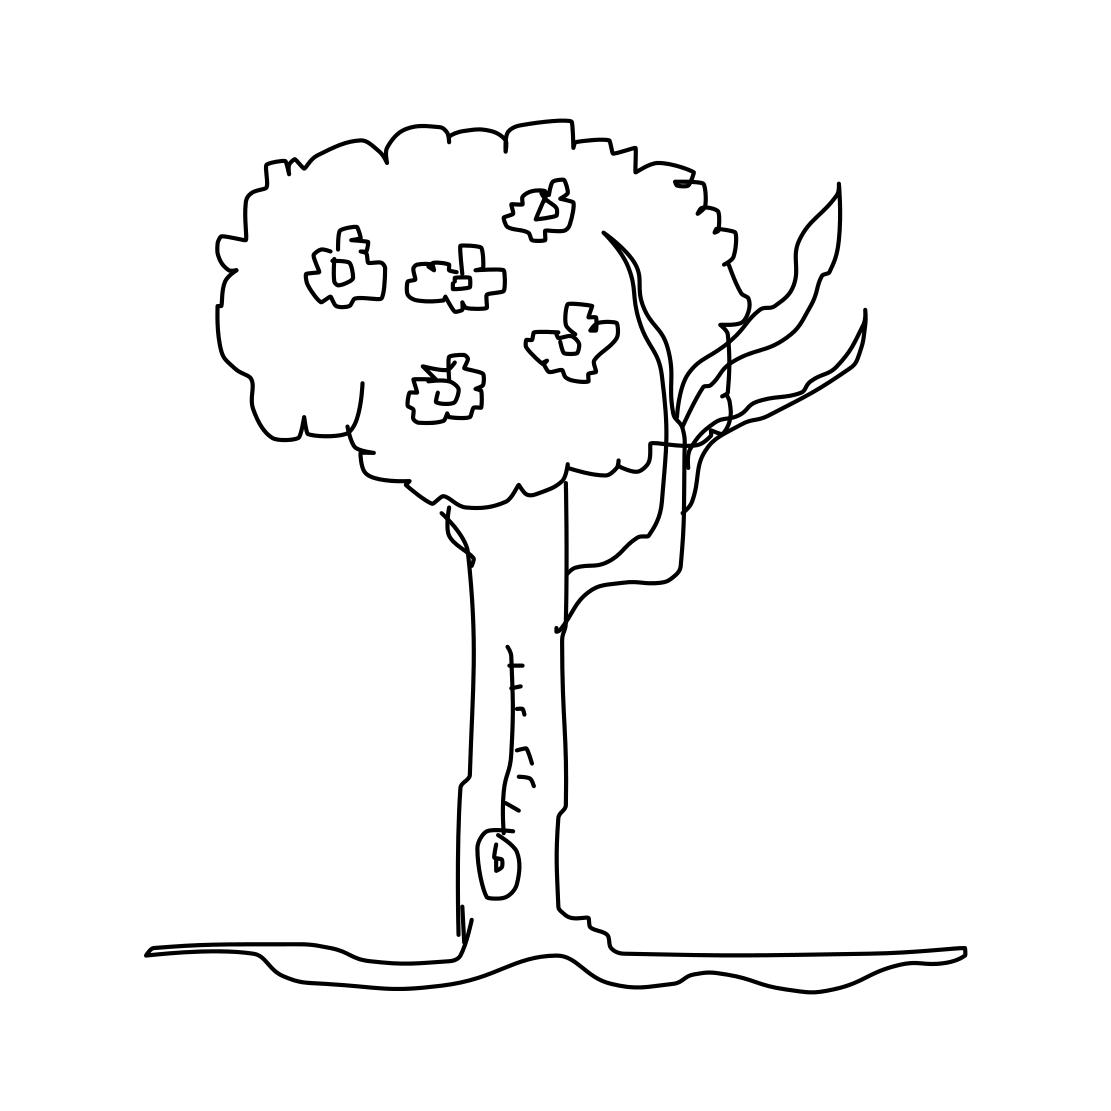Tree: (173, 98, 908, 981)
